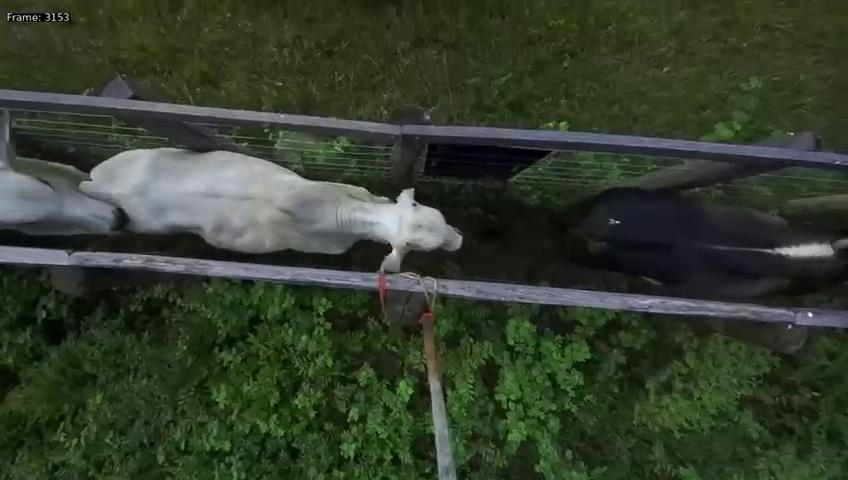cattle: (75, 136, 463, 275)
